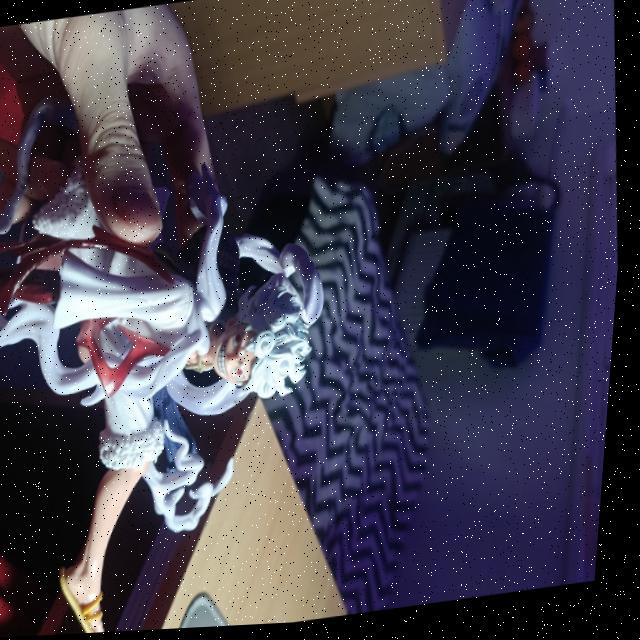luffy: (0, 129, 371, 640)
